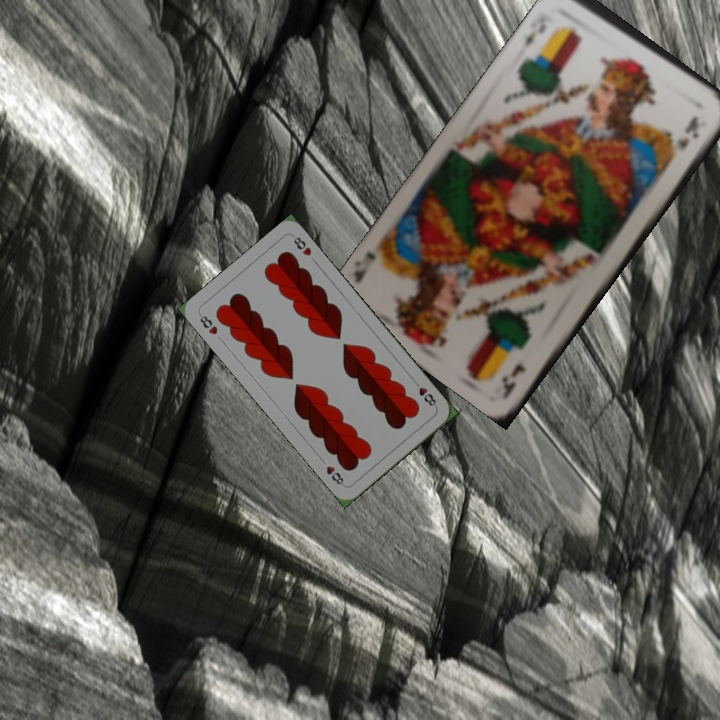EK: (518, 12, 557, 53), (498, 358, 529, 397)
H8: (409, 376, 439, 410), (195, 309, 220, 337)
